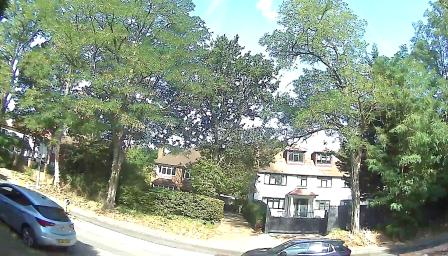Cars: (2, 180, 83, 251), (248, 233, 349, 256)
